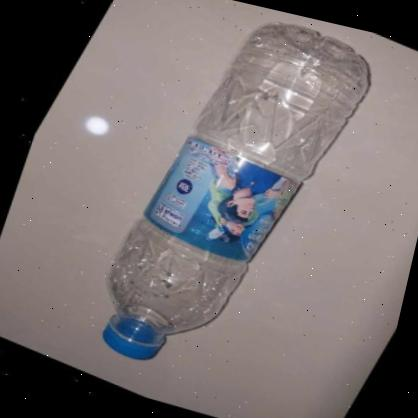bottle: (89, 0, 378, 396)
cap: (96, 320, 170, 368)
label: (139, 127, 304, 272)
